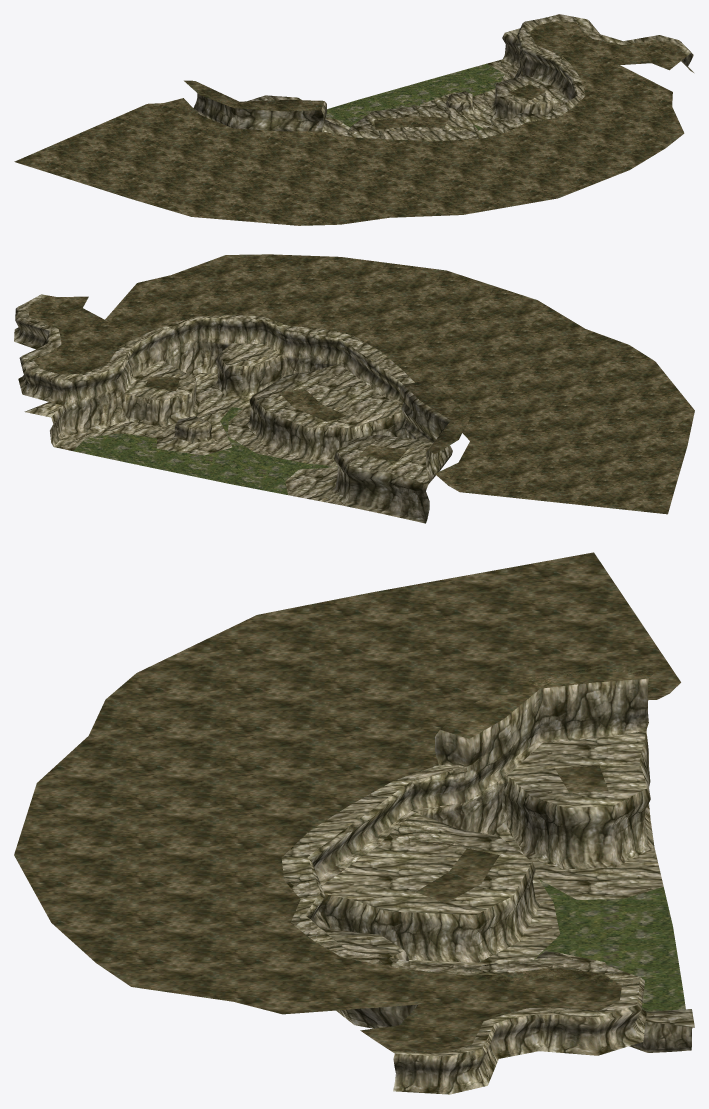
Rendered from CB_NEWPLAYSURFACE_OBJECT01.fbx.
3 views of the same model, one above another, from view 1: azimuth 30°, elevation 25°; view 2: azimuth 150°, elevation 25°; view 3: azimuth 270°, elevation 25° (orthographic). The views are drawn at different scales.
Parts seen in each view (by area): view 1: CB_NEWPLAYSURFACE_OBJECT01; view 2: CB_NEWPLAYSURFACE_OBJECT01; view 3: CB_NEWPLAYSURFACE_OBJECT01.
Part boxes in pixels (bbox=[...]): CB_NEWPLAYSURFACE_OBJECT01: bbox=[14, 14, 694, 225]; CB_NEWPLAYSURFACE_OBJECT01: bbox=[14, 254, 694, 523]; CB_NEWPLAYSURFACE_OBJECT01: bbox=[14, 552, 694, 1094].
Size of the model in its own units: 1008341 by 103072 by 568996.
Materials: 4 (4 with a texture image).
